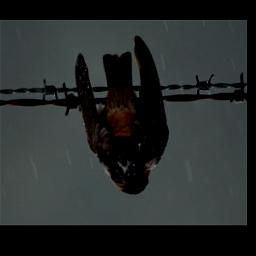Swallow: (73, 35, 170, 196)
